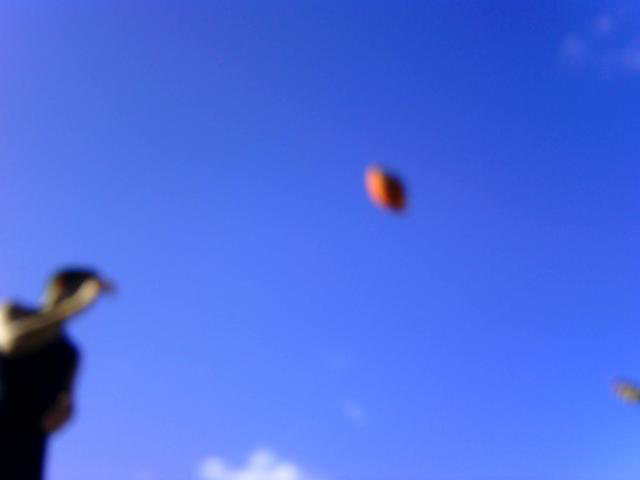football: (360, 162, 411, 215)
